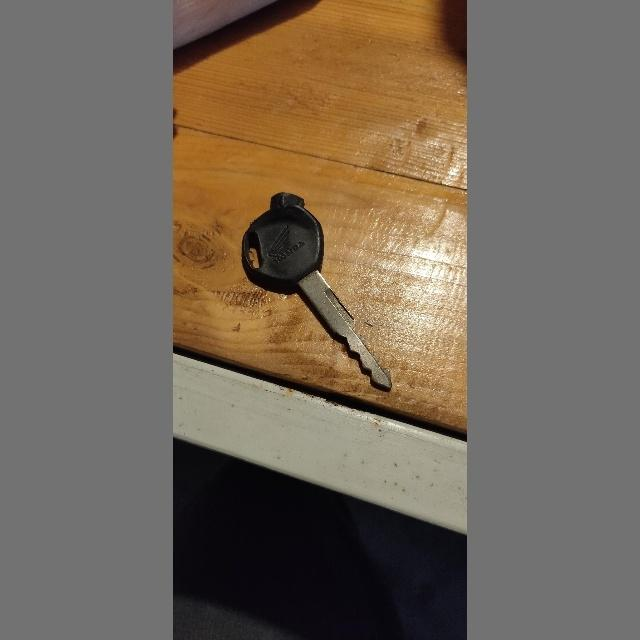Keys: (236, 184, 400, 393)
